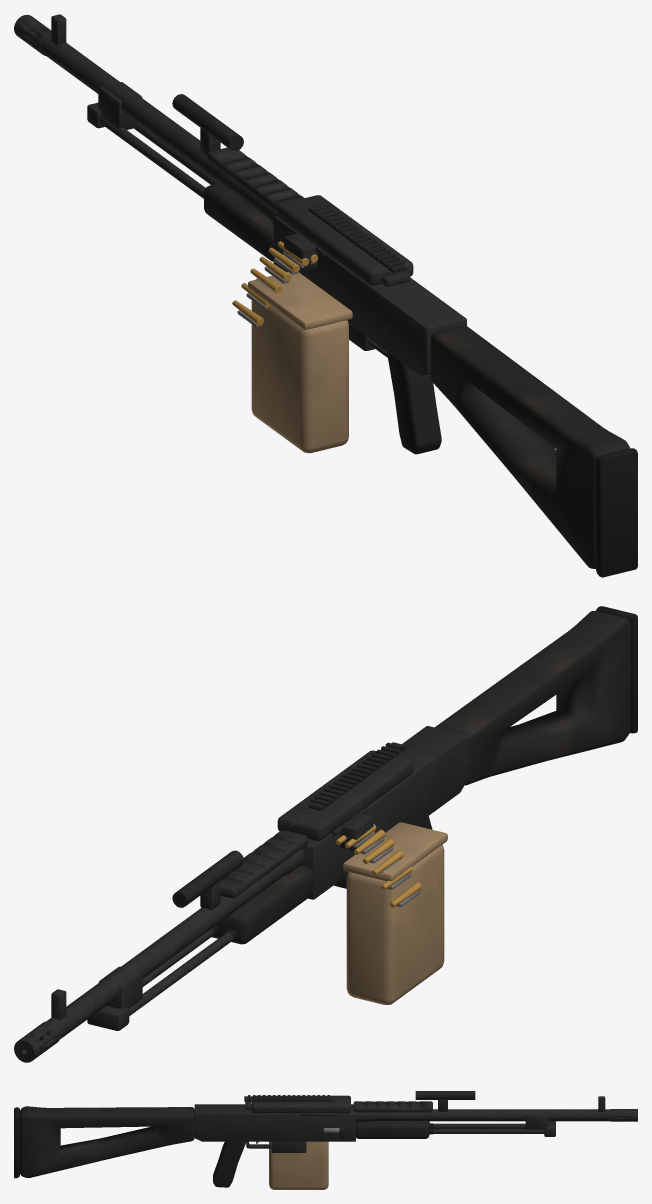
The model's file is LMG.glb.
3 renders of one model, top to bottom at view 1: azimuth 30°, elevation 25°; view 2: azimuth 150°, elevation 25°; view 3: azimuth 270°, elevation 25°, orthographic. The views are drawn at different scales.
Visible parts, largest first — view 1: LMG_Body, LMG_AmmoBox, LMG_FeedCover; view 2: LMG_Body, LMG_AmmoBox, LMG_FeedCover; view 3: LMG_Body, LMG_AmmoBox, LMG_FeedCover.
Boxes of the visible parts, x1=… form: LMG_Body: x1=14, y1=14, x2=637, y2=577; LMG_AmmoBox: x1=232, y1=241, x2=352, y2=453; LMG_FeedCover: x1=277, y1=195, x2=413, y2=286; LMG_Body: x1=14, y1=606, x2=637, y2=1062; LMG_AmmoBox: x1=336, y1=822, x2=447, y2=1004; LMG_FeedCover: x1=277, y1=750, x2=413, y2=841; LMG_Body: x1=14, y1=1091, x2=637, y2=1187; LMG_AmmoBox: x1=269, y1=1141, x2=328, y2=1189; LMG_FeedCover: x1=245, y1=1095, x2=350, y2=1113.
Bounding box in the file's own units: 0.1486 × 0.236 × 1.26.
Materials: 8 (8 with a texture image).
